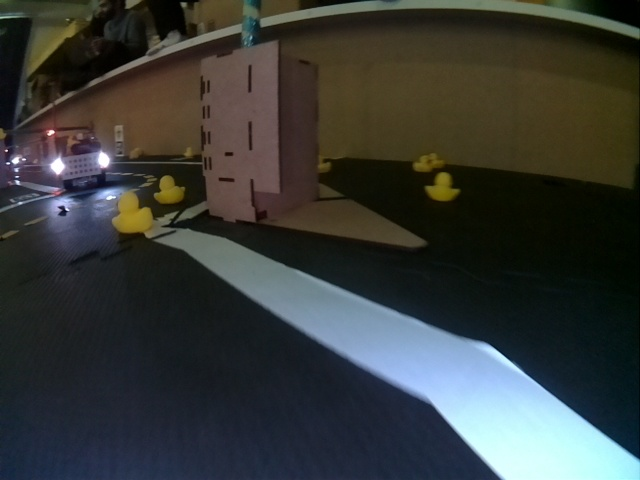Duckie: (113, 193, 151, 233), (152, 175, 186, 204), (425, 173, 460, 201), (413, 156, 428, 172), (317, 157, 331, 171)
Duckiebot: (53, 140, 107, 191)
